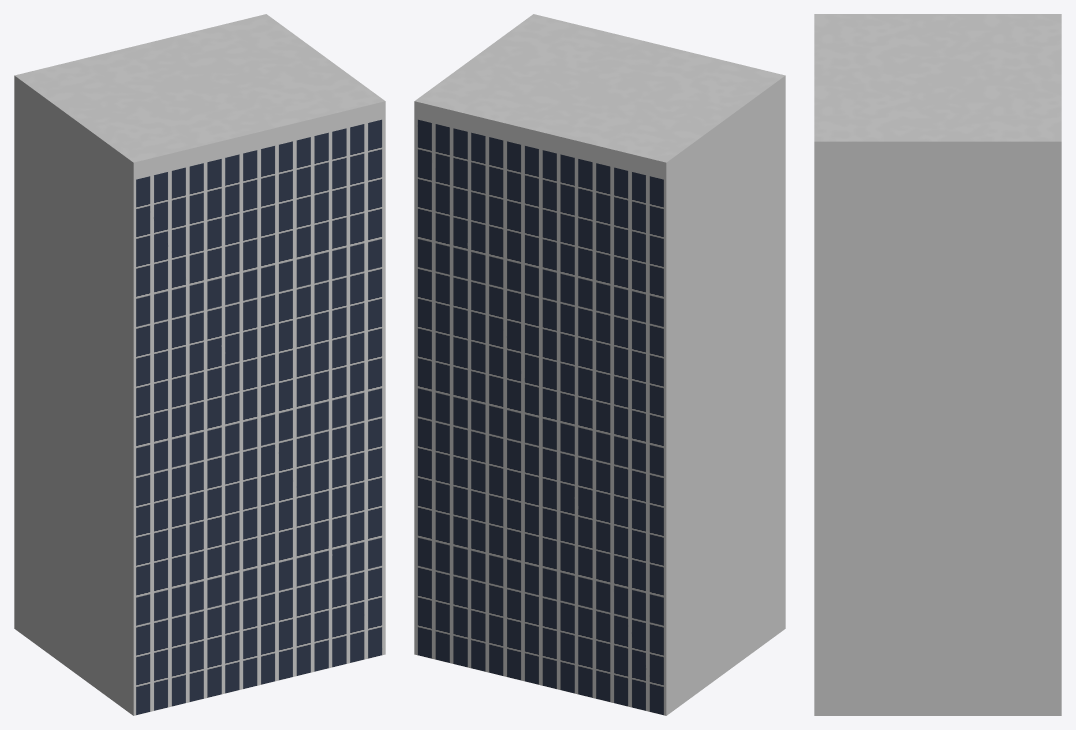
Rendered from Building_LM_W1_001.fbx.
3 views of the same model, side by side, from view 1: azimuth 30°, elevation 25°; view 2: azimuth 150°, elevation 25°; view 3: azimuth 270°, elevation 25° (orthographic). The views are drawn at different scales.
Parts seen in each view (by area): view 1: Building_LM_W1_001; view 2: Building_LM_W1_001; view 3: Building_LM_W1_001.
Part boxes in pixels (x1,y1,x2,y2): Building_LM_W1_001: (14, 14, 385, 715); Building_LM_W1_001: (414, 14, 785, 715); Building_LM_W1_001: (814, 14, 1061, 715).
Size of the model in its own units: 38.91 by 81.63 by 31.85.
